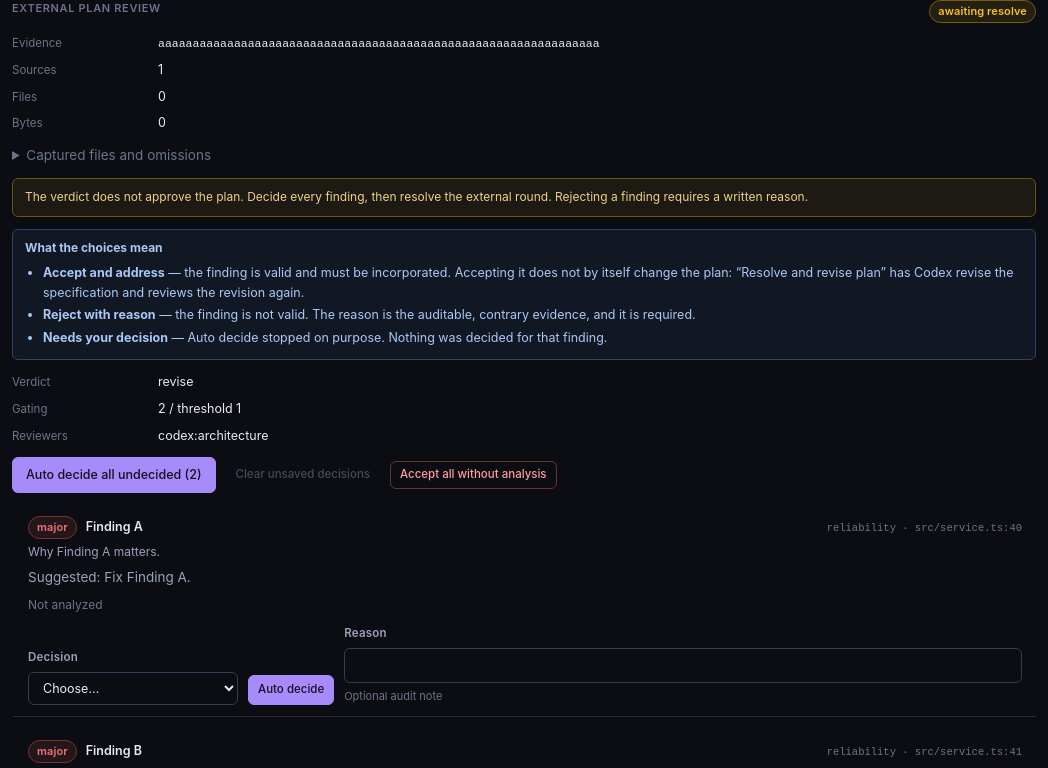
plan review: Auto decide beside every Decision › leaves Decision unset for needs_user and says, beside the field, why automation stopped
This screenshot has width=1048, height=768.
Expected: the text "Finding A" is shown, x1=86 y1=517 x2=143 y2=536
Click the button with aria-label "Auto decide: Finding A" at (291, 690), box x1=248 y1=675 x2=334 y2=705
(page scrolled)
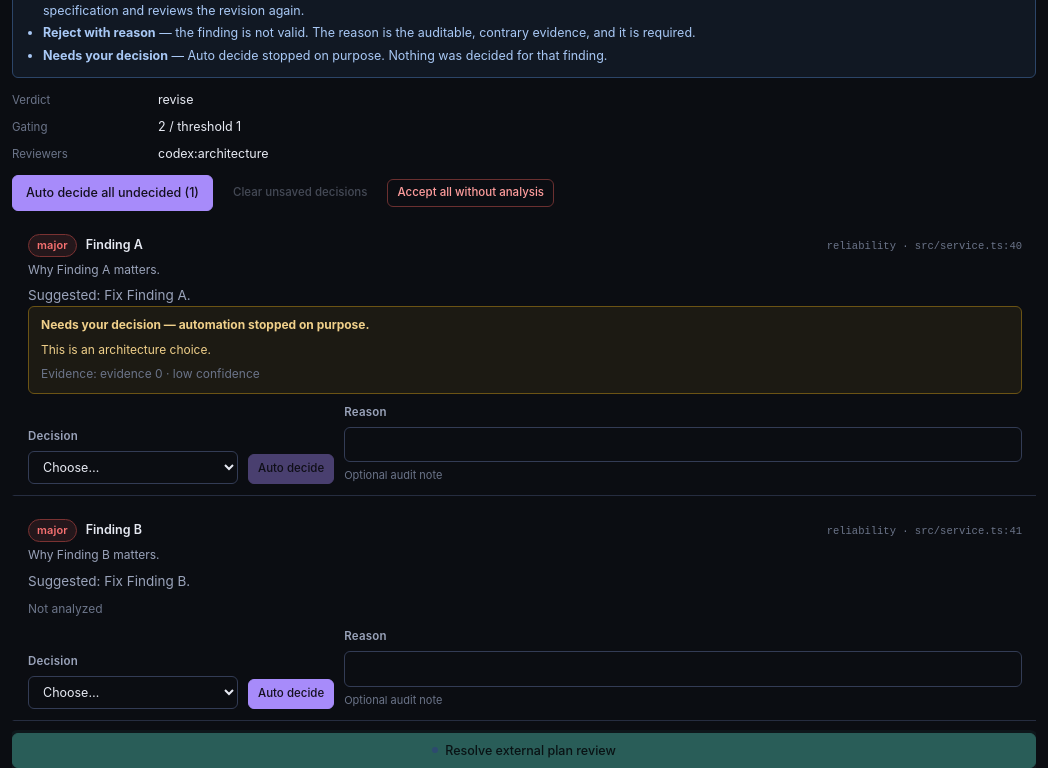
Now the text "Needs your decision — automation stopped on purpose." is shown, box x1=41 y1=316 x2=370 y2=335
Now the text "This is an architecture choice." is shown, box x1=41 y1=342 x2=211 y2=357
Now the button with aria-label "Auto decide: Finding A" is disabled, box x1=248 y1=454 x2=334 y2=484
